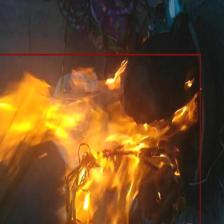fire: (0, 53, 201, 224)
